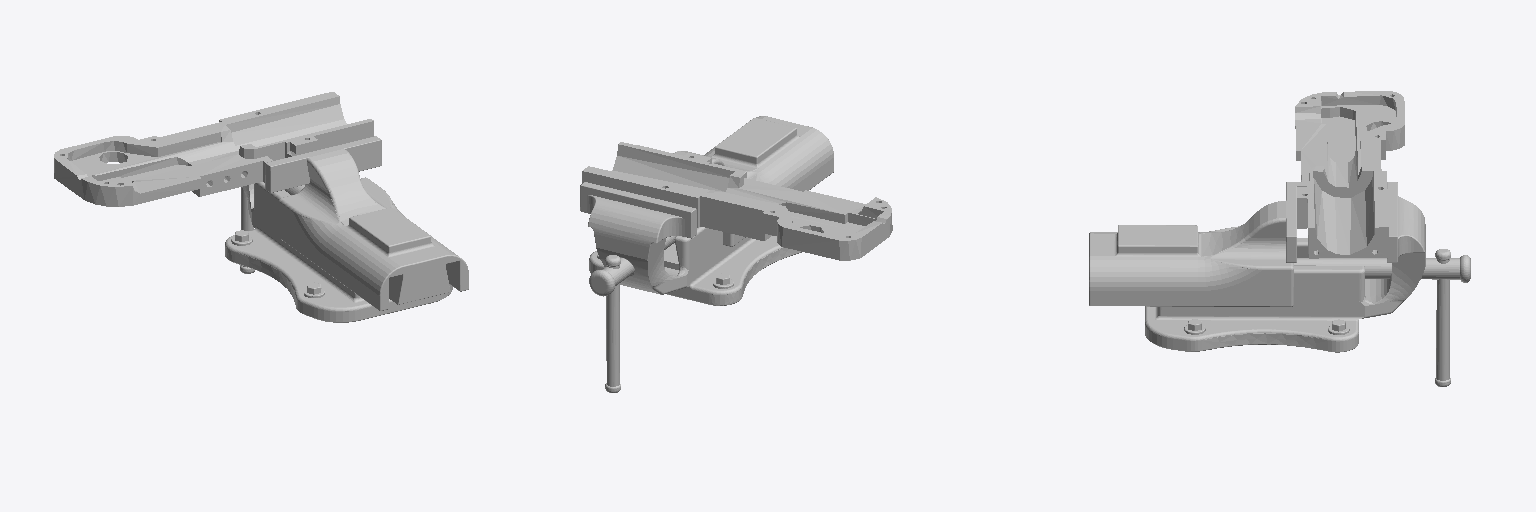
The model's file is Schraubstock_Spanner_ohne_Inhalt.obj.
3 views of the same model, side by side, from view 1: azimuth 30°, elevation 25°; view 2: azimuth 150°, elevation 25°; view 3: azimuth 270°, elevation 25° (orthographic).
Visible parts, largest first — view 1: Bench_Vise.001, Pneumatikspanner.003, Bench_Vise; view 2: Bench_Vise, Pneumatikspanner.003, Bench_Vise.001; view 3: Bench_Vise, Bench_Vise.001, Pneumatikspanner.003.
Part boxes in pixels (left/top/right/bottom): Bench_Vise.001: left=265, top=136, right=468, bottom=310; Pneumatikspanner.003: left=54, top=92, right=373, bottom=206; Bench_Vise: left=225, top=182, right=452, bottom=322; Bench_Vise: left=580, top=182, right=801, bottom=392; Pneumatikspanner.003: left=582, top=142, right=892, bottom=260; Bench_Vise.001: left=637, top=116, right=833, bottom=246; Bench_Vise: left=1145, top=182, right=1470, bottom=386; Bench_Vise.001: left=1089, top=182, right=1296, bottom=306; Pneumatikspanner.003: left=1295, top=91, right=1404, bottom=258.
Size of the model in its own units: 0.254 by 0.1542 by 0.2851.